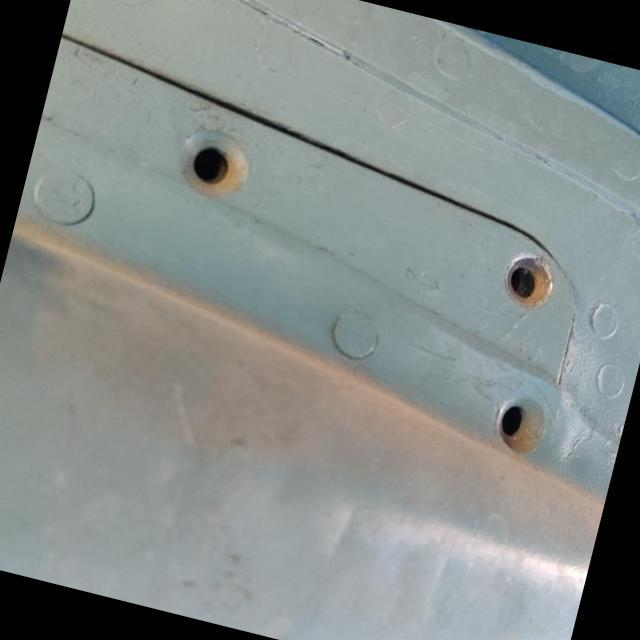Fastener Damage: (146, 96, 290, 238), (454, 362, 587, 497), (462, 219, 592, 340)
